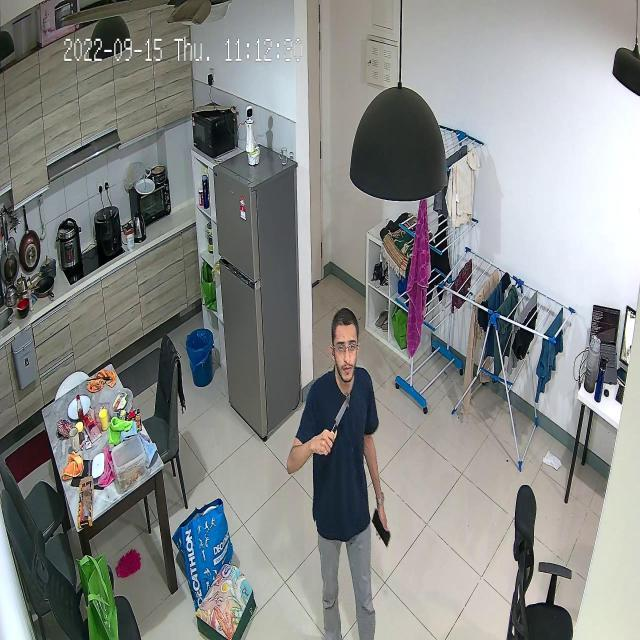Knife: (318, 385, 362, 440)
